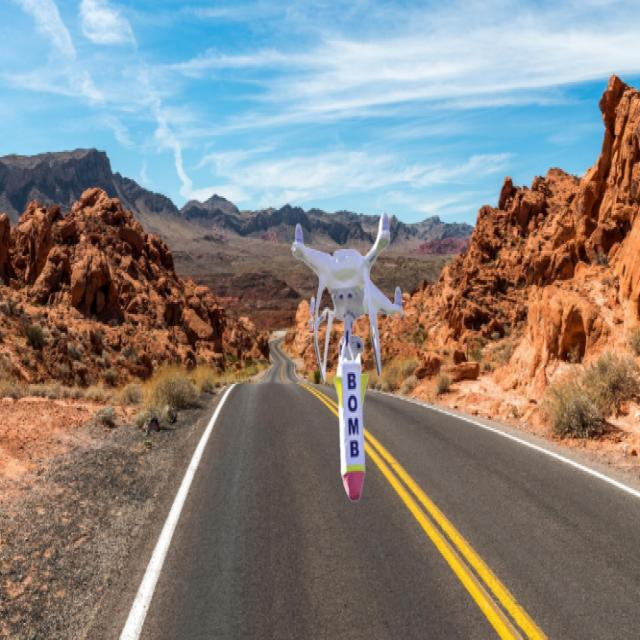drones: (287, 206, 412, 382)
